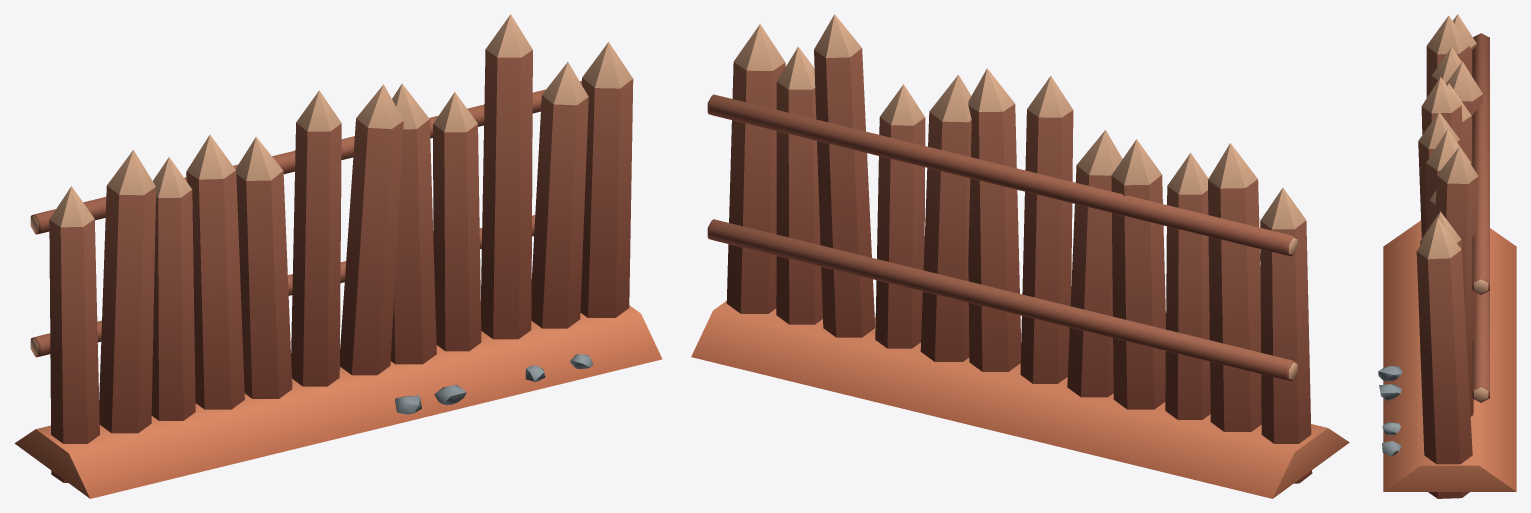
Rendered from palisade_straight.fbx.
The picture shows the model from 3 angles, left to right: view 1: azimuth 30°, elevation 25°; view 2: azimuth 150°, elevation 25°; view 3: azimuth 270°, elevation 25°; orthographic projection. The views are drawn at different scales.
Parts seen in each view (by area): view 1: palisade_straight; view 2: palisade_straight; view 3: palisade_straight.
Boxes of the visible parts, bbox=[...] form: palisade_straight: bbox=[14, 14, 662, 498]; palisade_straight: bbox=[691, 14, 1349, 498]; palisade_straight: bbox=[1378, 14, 1516, 498].
Size of the model in its own units: 2 by 1.17 by 0.4777.
1 material, 1 textured.
